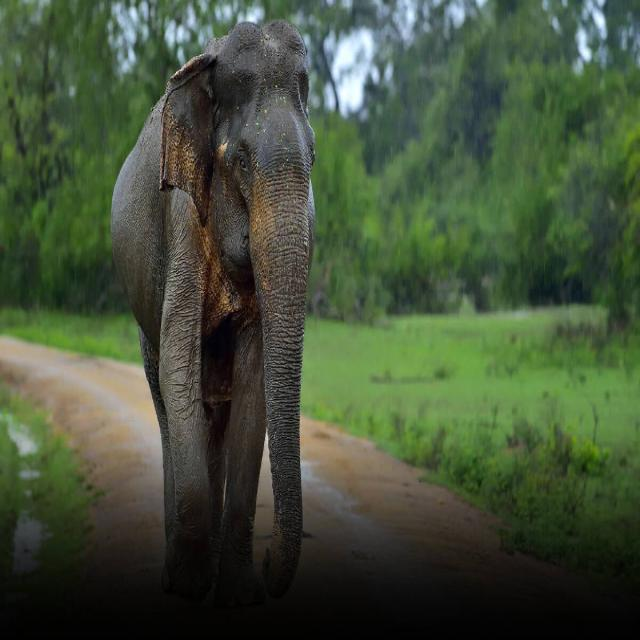Elephant: (102, 4, 346, 619)
